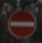No entry: (6, 6, 36, 38)
